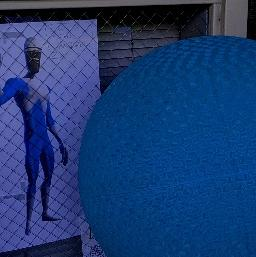algae: (74, 33, 256, 257)
